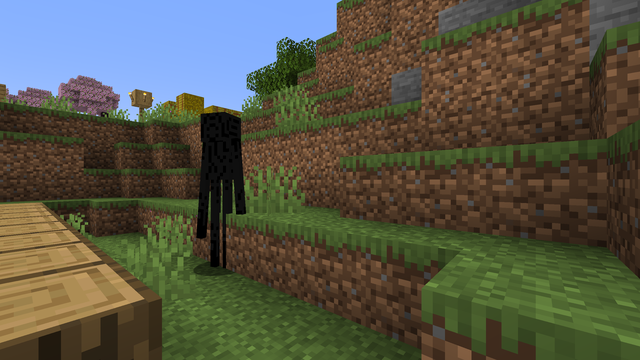endermens: (198, 104, 244, 274)
